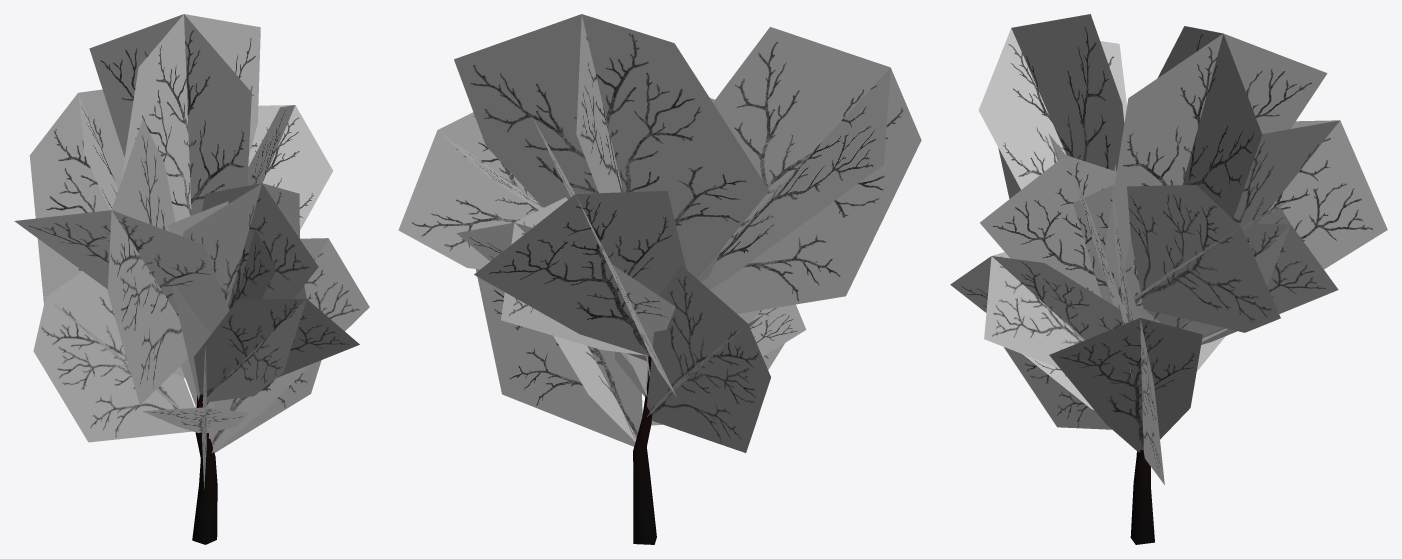
The model's file is Bush_A_01.fbx.
The picture shows the model from 3 angles, left to right: view 1: azimuth 30°, elevation 25°; view 2: azimuth 150°, elevation 25°; view 3: azimuth 270°, elevation 25°; orthographic projection. The views are drawn at different scales.
Parts seen in each view (by area): view 1: Bush_A_01_LOD0; view 2: Bush_A_01_LOD0; view 3: Bush_A_01_LOD0.
Part boxes in pixels (left/top/right/bottom): Bush_A_01_LOD0: left=14, top=14, right=369, bottom=544; Bush_A_01_LOD0: left=398, top=14, right=921, bottom=544; Bush_A_01_LOD0: left=950, top=14, right=1387, bottom=544.
Size of what is drawn, in the model's own units: 159 by 211 by 162.
